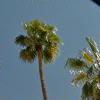Palm tree: (17, 14, 95, 100)
